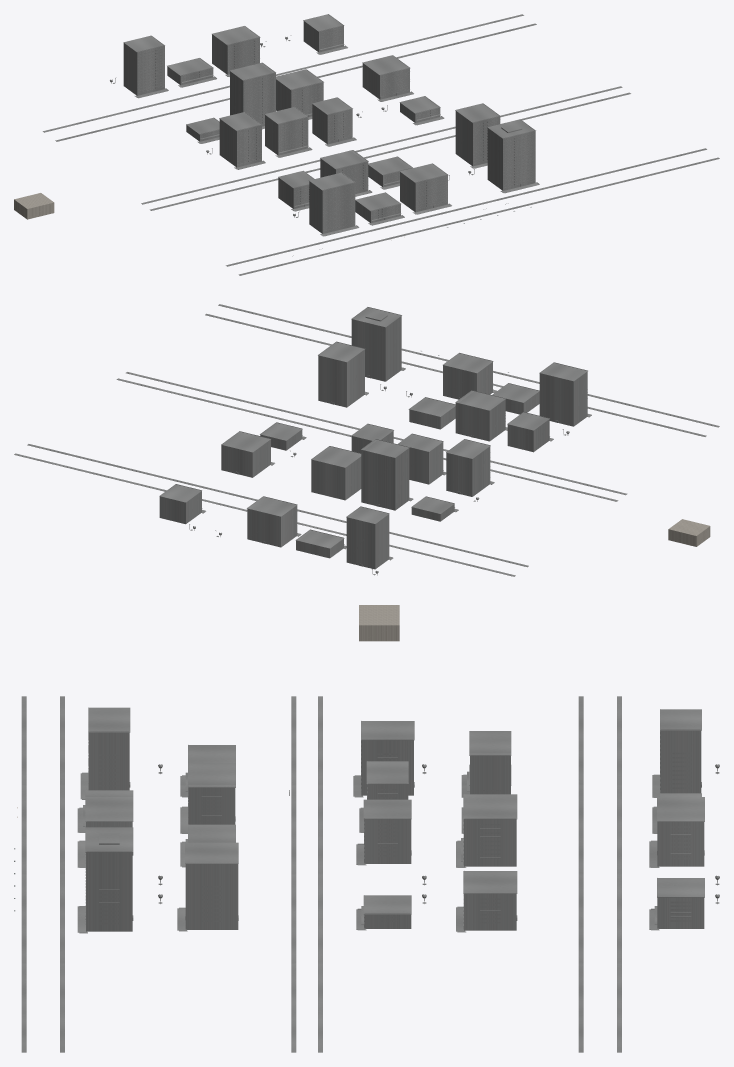
Rendered from cell_1_-2_lod1.gltf.
The picture shows the model from 3 angles, top to bottom: view 1: azimuth 30°, elevation 25°; view 2: azimuth 150°, elevation 25°; view 3: azimuth 270°, elevation 25°; orthographic projection. The views are drawn at different scales.
Visible parts, largest first — view 1: GIDI_VICTORIA_ISLAND_CBD_V2_MESH, MASS_YABA_016; view 2: GIDI_VICTORIA_ISLAND_CBD_V2_MESH, MASS_YABA_016; view 3: GIDI_VICTORIA_ISLAND_CBD_V2_MESH, MASS_YABA_016.
Boxes of the visible parts, x1,y1,x2,y2 form: GIDI_VICTORIA_ISLAND_CBD_V2_MESH: (43, 14, 719, 275); MASS_YABA_016: (14, 193, 54, 219); GIDI_VICTORIA_ISLAND_CBD_V2_MESH: (14, 304, 719, 576); MASS_YABA_016: (668, 519, 710, 546); GIDI_VICTORIA_ISLAND_CBD_V2_MESH: (21, 696, 719, 1052); MASS_YABA_016: (359, 605, 399, 641).
Bounding box in the file's own units: 697 × 61.4 × 482.
Materials: 5 (2 with a texture image).
